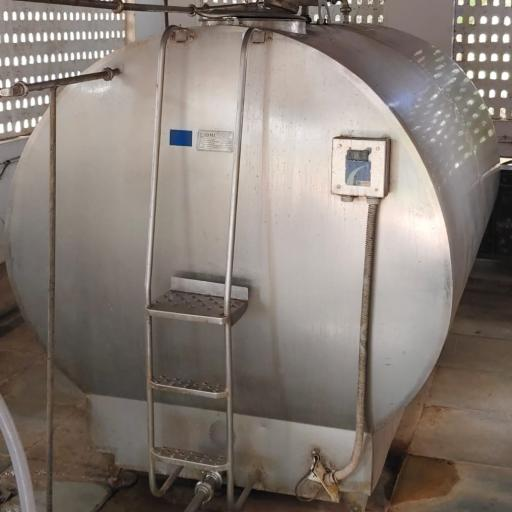silo: (6, 19, 499, 496)
